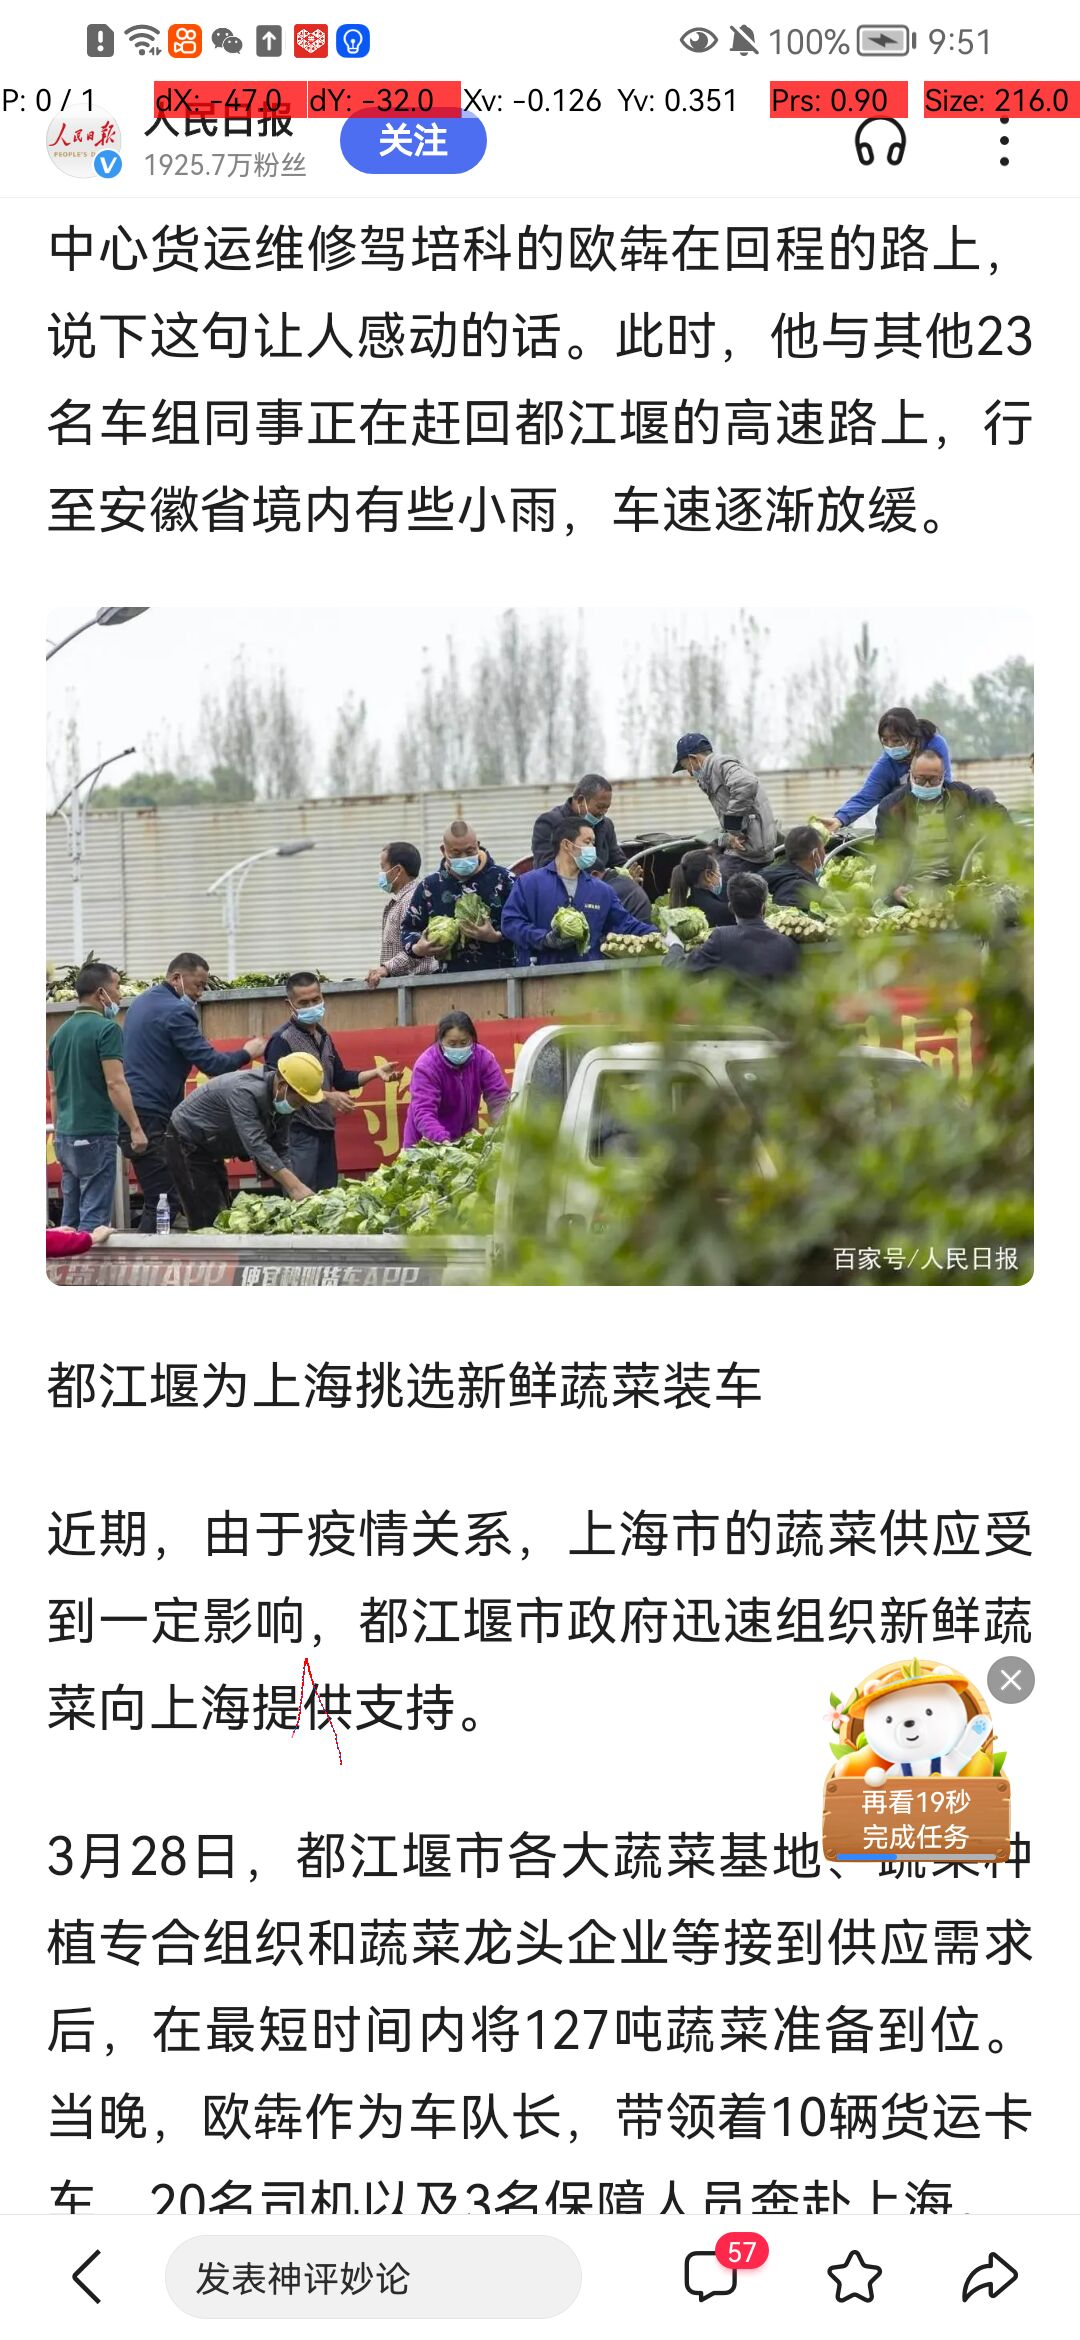popup: (988, 1662, 1038, 1700)
